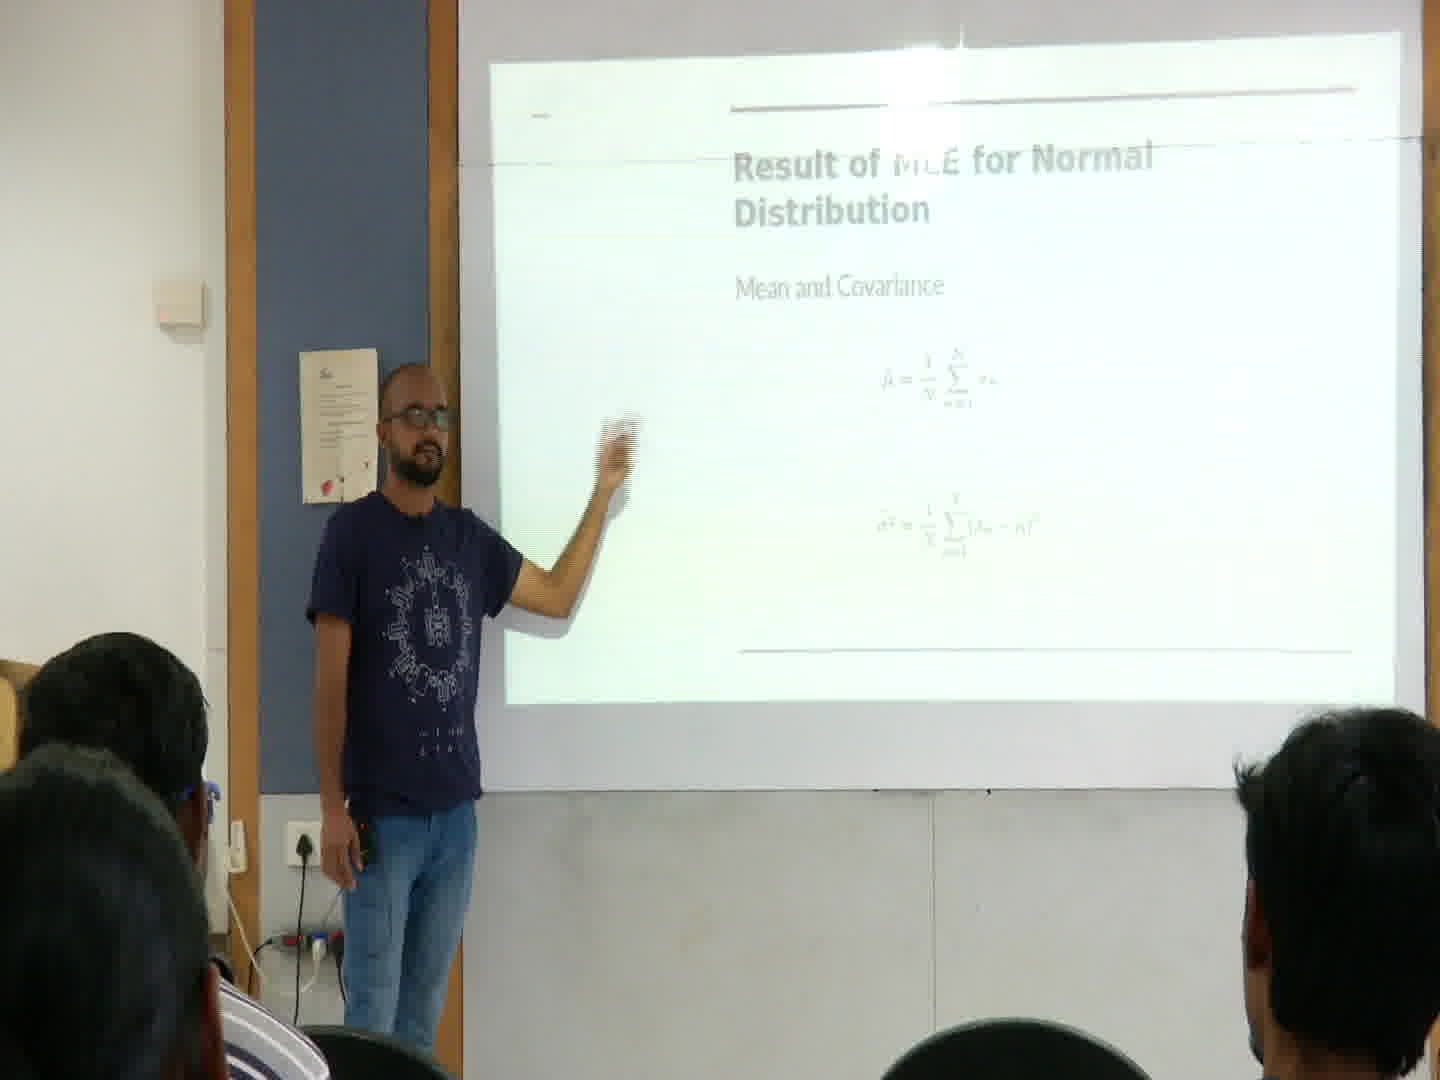eq: (869, 486, 1036, 562), (879, 341, 1003, 415)
